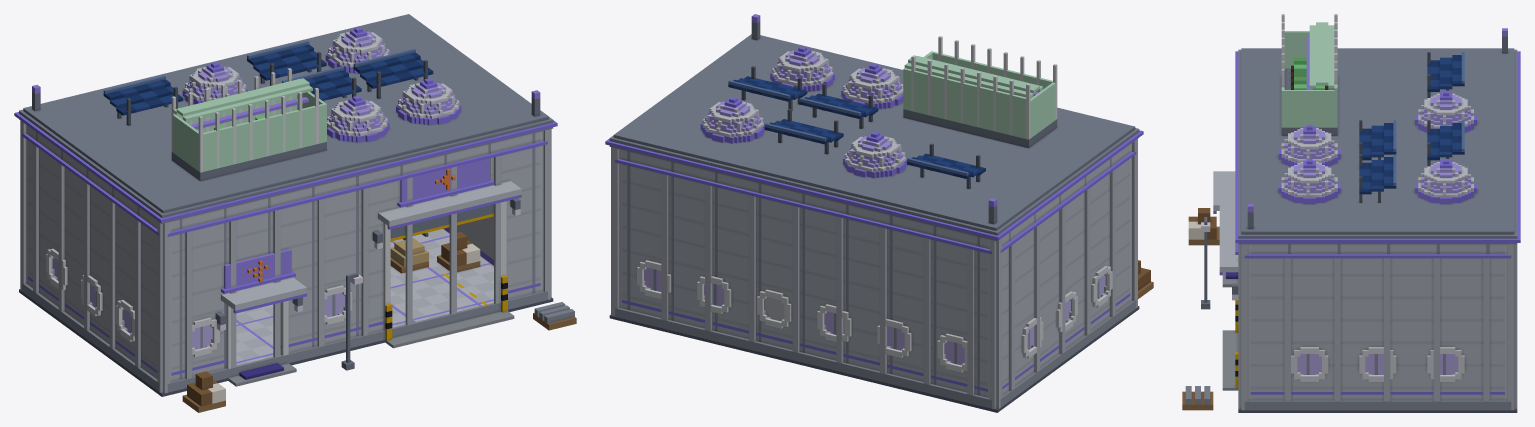
File: factory_e5_l1.glb
3 views of the same model, side by side, from view 1: azimuth 30°, elevation 25°; view 2: azimuth 150°, elevation 25°; view 3: azimuth 270°, elevation 25° (orthographic). The views are drawn at different scales.
Visible parts, largest first — view 1: CutRoof, CutPZ, Base, CutNX, CutNZ; view 2: CutRoof, CutNZ, CutNX, Base, CutPZ; view 3: CutRoof, CutPX, Base, CutPZ, CutNZ.
Boxes of the visible parts, box(x1,y1,x2,y2) form: CutRoof: box(14, 14, 557, 223); CutPZ: box(157, 129, 551, 367); Base: box(19, 222, 576, 412); CutNX: box(22, 126, 158, 361); CutNZ: box(20, 120, 27, 266); CutRoof: box(605, 14, 1143, 241); CutNZ: box(611, 147, 1002, 383); CutNX: box(1000, 144, 1136, 377); Base: box(609, 260, 1153, 412); CutPZ: box(1130, 139, 1137, 283); CutRoof: box(1235, 14, 1520, 244); CutPX: box(1244, 244, 1511, 384); Base: box(1182, 208, 1517, 412); CutPZ: box(1213, 171, 1250, 384); CutNZ: box(1505, 244, 1517, 384).
Size of the model in its own units: 14.4 by 8.6 by 10.9.
